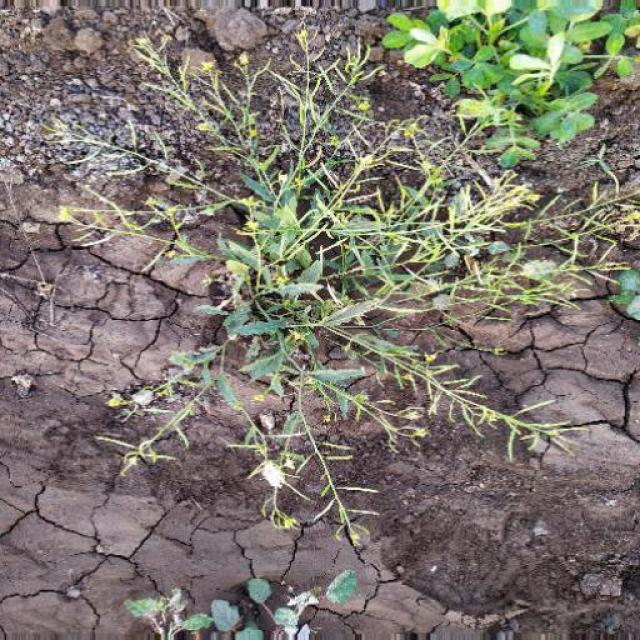weed: (58, 1, 638, 535)
